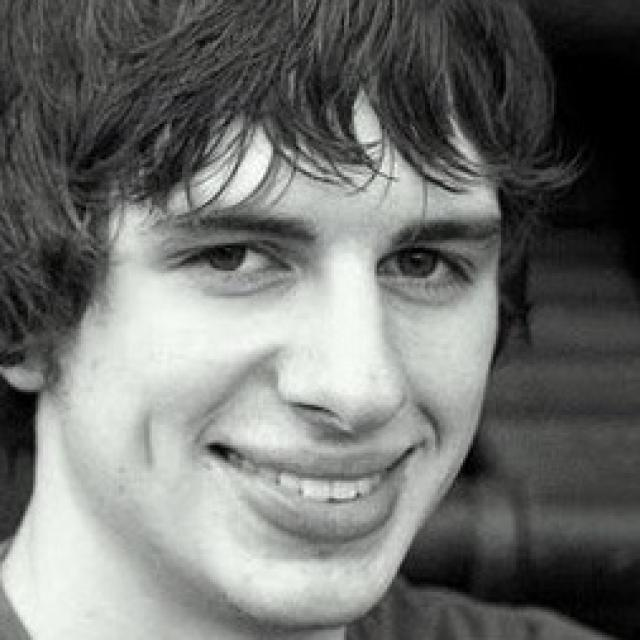Normal: (46, 81, 501, 622)
